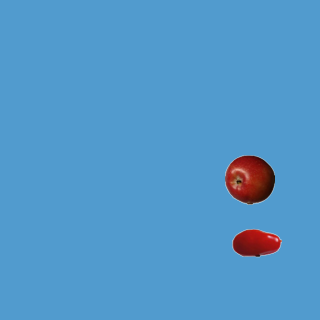Apple Braeburn: (224, 154, 274, 204)
Tomato 2: (231, 217, 281, 267)
